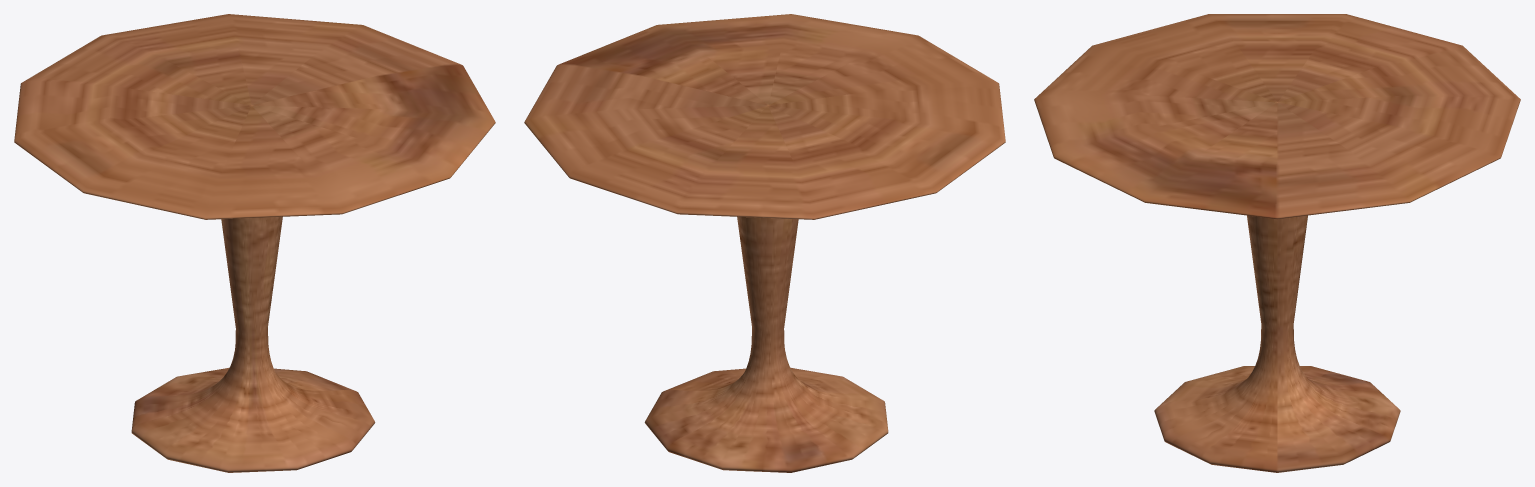
Rendered from table.dae.
3 views of the same model, side by side, from view 1: azimuth 30°, elevation 25°; view 2: azimuth 150°, elevation 25°; view 3: azimuth 270°, elevation 25° (orthographic).
Parts seen in each view (by area): view 1: Lathe_NURBS; view 2: Lathe_NURBS; view 3: Lathe_NURBS.
Part boxes in pixels (left/top/right/bottom): Lathe_NURBS: left=14, top=14, right=495, bottom=472; Lathe_NURBS: left=524, top=14, right=1005, bottom=472; Lathe_NURBS: left=1034, top=14, right=1520, bottom=472.
Size of the model in its own units: 6.95 by 5.15 by 7.02.
